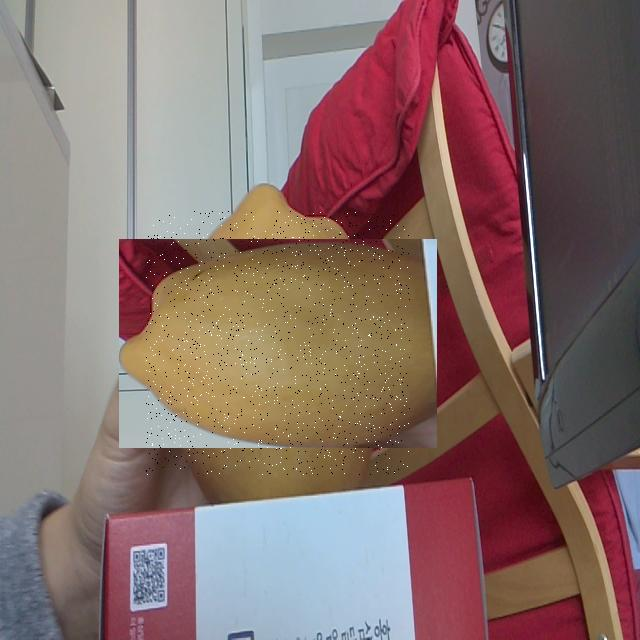pear: (146, 211, 410, 475)
